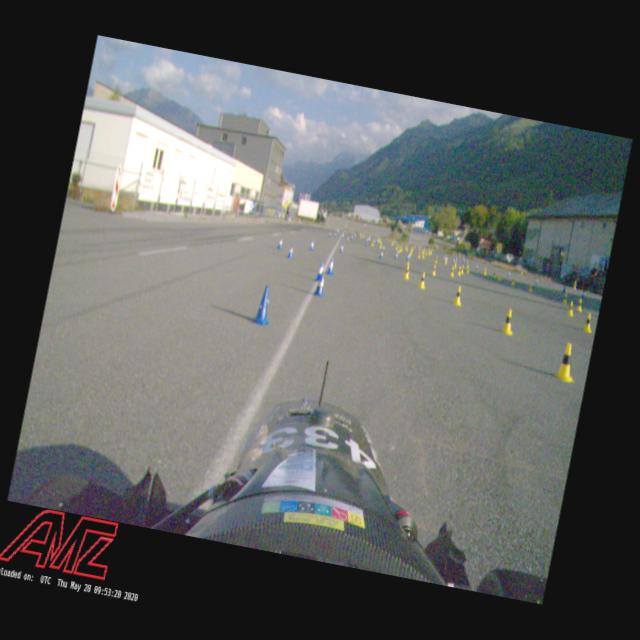blue_cone: (253, 283, 276, 327), (314, 270, 328, 298), (315, 261, 326, 283), (326, 256, 336, 276), (286, 242, 296, 260), (308, 238, 316, 252), (276, 237, 284, 250), (339, 242, 345, 255), (378, 250, 384, 260), (394, 252, 399, 260)
yellow_cone: (554, 340, 580, 384), (501, 308, 517, 336), (583, 312, 595, 334), (452, 285, 464, 306), (418, 271, 428, 290), (566, 300, 576, 318), (576, 299, 584, 313), (404, 266, 412, 280), (430, 264, 438, 278), (562, 292, 570, 306), (450, 266, 456, 278), (482, 266, 488, 276), (457, 266, 462, 276), (460, 266, 465, 276), (466, 264, 471, 274), (511, 276, 516, 286), (434, 256, 439, 264)
